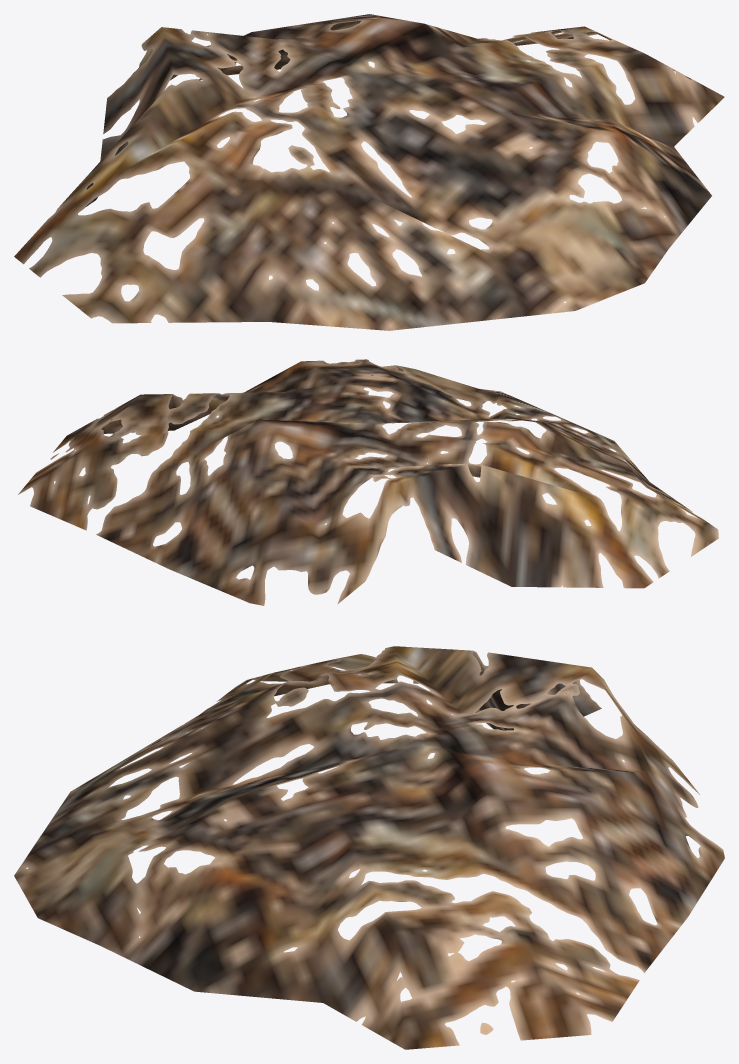
The model's file is shrapnel_pile.FBX.
3 renders of one model, top to bottom at view 1: azimuth 30°, elevation 25°; view 2: azimuth 150°, elevation 25°; view 3: azimuth 270°, elevation 25°, orthographic. The views are drawn at different scales.
Visible parts, largest first — view 1: shrapnel_pile; view 2: shrapnel_pile; view 3: shrapnel_pile.
Boxes of the visible parts, x1,y1,x2,y2 form: shrapnel_pile: [14, 14, 724, 330]; shrapnel_pile: [18, 359, 718, 605]; shrapnel_pile: [14, 646, 724, 1049].
Size of the model in its own units: 26.55 by 4.43 by 21.63.
